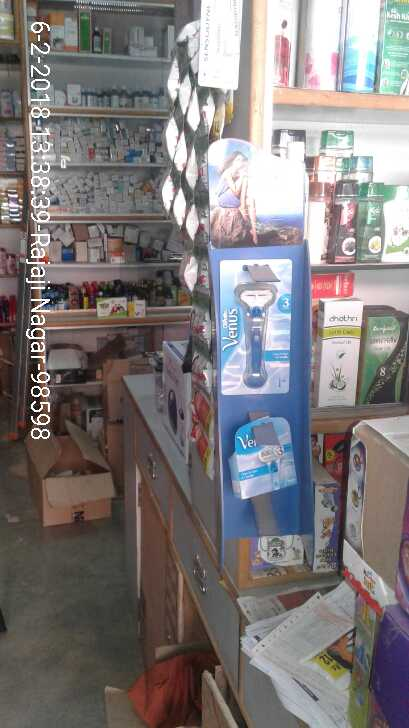venus: (216, 254, 293, 396), (227, 428, 295, 494)
